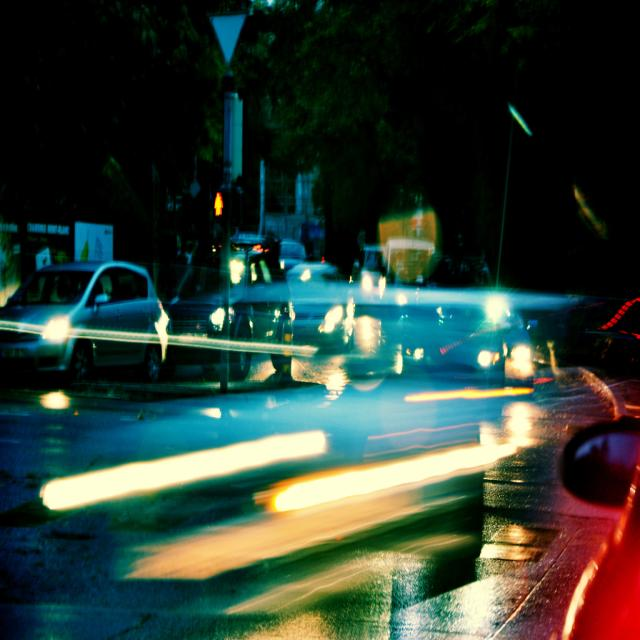car: (2, 257, 177, 385), (158, 231, 301, 386)
